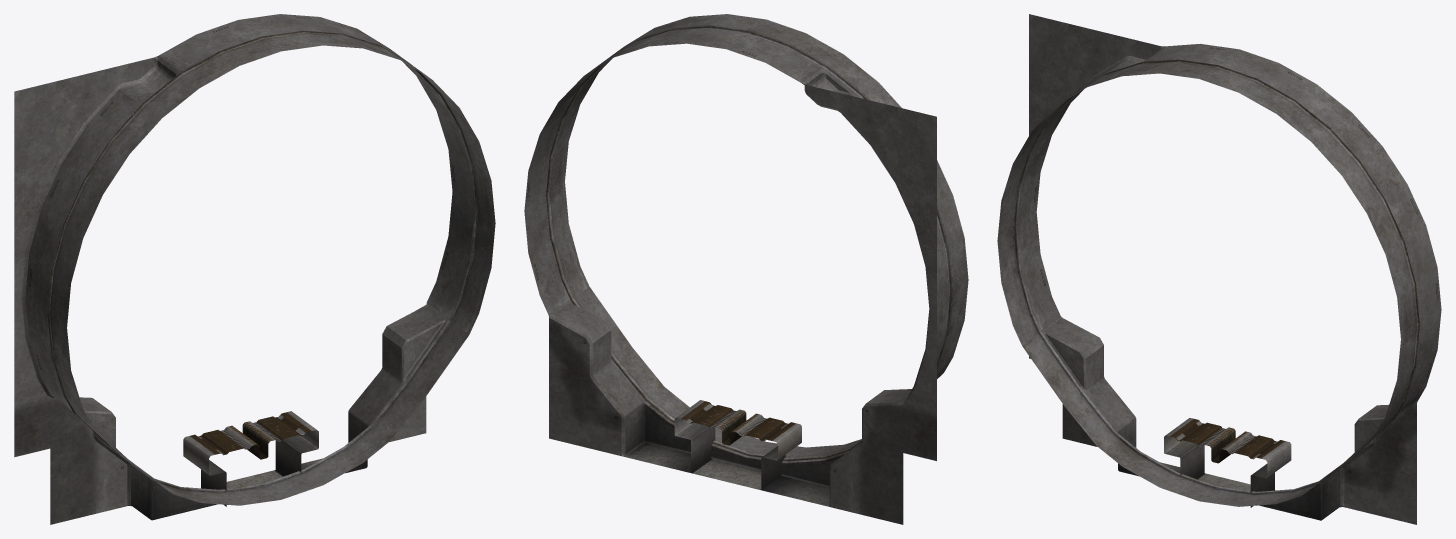
Rendered from theta_traintunnel_doorframe_right.dae.
3 views of the same model, side by side, from view 1: azimuth 30°, elevation 25°; view 2: azimuth 150°, elevation 25°; view 3: azimuth 330°, elevation 25° (orthographic). The views are drawn at different scales.
Parts seen in each view (by area): view 1: polySurface1577, pCube32; view 2: polySurface1577, pCube32; view 3: polySurface1577, pCube32.
Part boxes in pixels (x1=…): polySurface1577: x1=14, y1=14, x2=495, y2=524; pCube32: x1=183, y1=411, x2=318, y2=506; polySurface1577: x1=524, y1=14, x2=968, y2=524; pCube32: x1=674, y1=400, x2=801, y2=489; polySurface1577: x1=997, y1=14, x2=1441, y2=524; pCube32: x1=1164, y1=418, x2=1291, y2=507.
Size of the model in its own units: 5.87 by 5.88 by 1.
